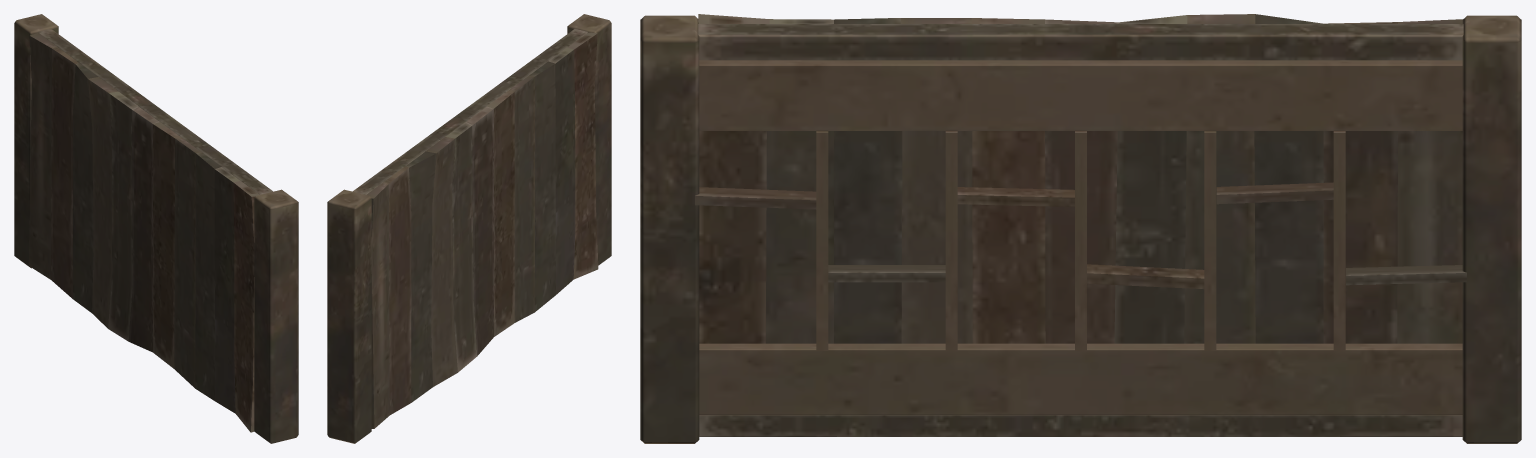
File: wall.half.frontier_variant_b.glb
3 renders of one model, left to right at view 1: azimuth 30°, elevation 25°; view 2: azimuth 150°, elevation 25°; view 3: azimuth 270°, elevation 25°, orthographic. The views are drawn at different scales.
Parts seen in each view (by area): view 1: wall.half_b_LOD0; view 2: wall.half_b_LOD0; view 3: wall.half_b_LOD0.
Boxes of the visible parts, x1,y1,x2,y2 form: wall.half_b_LOD0: (14, 14, 298, 443); wall.half_b_LOD0: (327, 14, 611, 443); wall.half_b_LOD0: (640, 14, 1521, 443).
Size of the model in its own units: 0.2246 by 1.53 by 3.
Materials: 1 (1 with a texture image).
